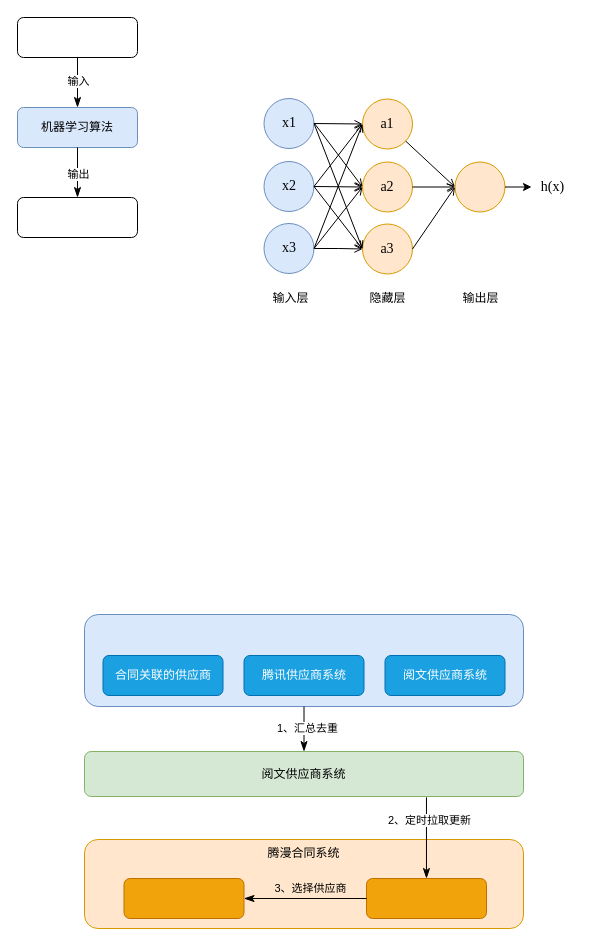
This 590x946 diagram has some shape labels left out. The shapes that lost their labels are listed below. From the top down, each one's box as (x1, y1, x2, y2) in pixels, then its label:
(16, 16, 138, 58): 数据集
(16, 196, 138, 238): 预测模型
(84, 614, 524, 706): 供应商信息融合
(123, 878, 244, 918): 合同签约
(366, 878, 486, 918): 供应商信息表
